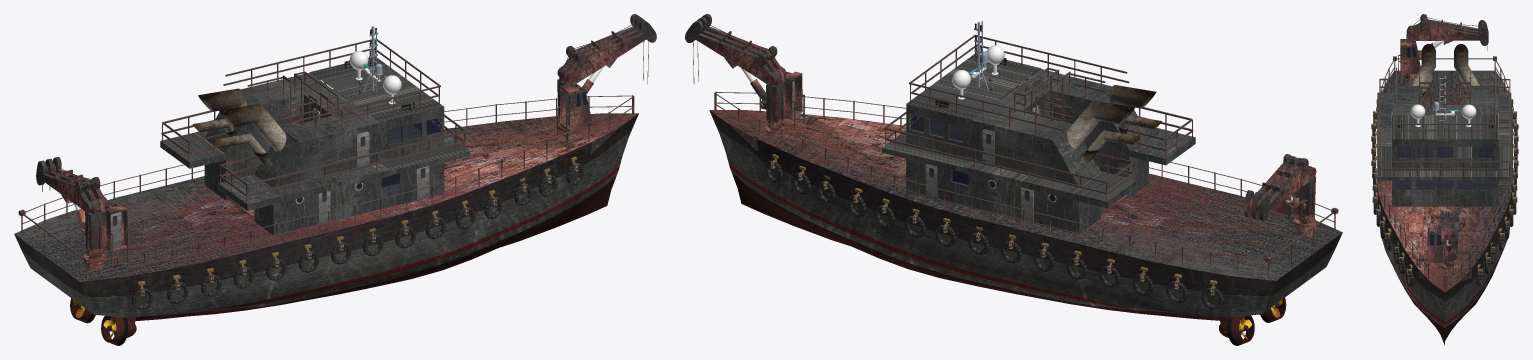
Rendered from boat.glb.
The picture shows the model from 3 angles, left to right: view 1: azimuth 30°, elevation 25°; view 2: azimuth 150°, elevation 25°; view 3: azimuth 270°, elevation 25°; orthographic projection. The views are drawn at different scales.
Visible parts, largest first — view 1: Object_10, Object_25, Object_29, Object_11, Object_22, Object_30, Object_23, Object_24, Object_28, Object_21, Object_27, Object_31 (+3 smaller); view 2: Object_25, Object_10, Object_29, Object_11, Object_30, Object_23, Object_22, Object_24, Object_27, Object_21, Object_28, Object_31 (+3 smaller); view 3: Object_29, Object_25, Object_10, Object_32, Object_24, Object_30, Object_11, Object_22, Object_27, Object_28, Object_21, Object_23 (+7 smaller).
Boxes of the visible parts, x1,y1,x2,y2 form: Object_10: [14, 113, 638, 320]; Object_25: [14, 23, 648, 281]; Object_29: [160, 56, 469, 234]; Object_11: [192, 88, 286, 165]; Object_22: [21, 44, 634, 279]; Object_30: [131, 163, 583, 309]; Object_23: [556, 14, 656, 132]; Object_24: [36, 157, 108, 270]; Object_28: [54, 169, 127, 262]; Object_21: [110, 93, 569, 247]; Object_27: [557, 31, 622, 136]; Object_31: [201, 251, 319, 296]; Object_25: [693, 24, 1342, 280]; Object_10: [709, 110, 1342, 320]; Object_29: [882, 52, 1195, 234]; Object_11: [1067, 85, 1161, 162]; Object_30: [765, 160, 1223, 309]; Object_23: [685, 14, 786, 134]; Object_22: [714, 37, 1335, 278]; Object_24: [1244, 155, 1316, 236]; Object_27: [719, 31, 804, 124]; Object_21: [792, 80, 1039, 222]; Object_28: [1262, 154, 1315, 216]; Object_31: [1033, 249, 1153, 295]; Object_29: [1377, 85, 1511, 206]; Object_25: [1377, 16, 1512, 292]; Object_10: [1377, 184, 1512, 345]; Object_32: [1396, 146, 1493, 189]; Object_24: [1404, 16, 1488, 82]; Object_30: [1373, 101, 1516, 286]; Object_11: [1410, 44, 1479, 96]; Object_22: [1379, 61, 1510, 290]; Object_27: [1427, 211, 1458, 262]; Object_28: [1398, 14, 1461, 75]; Object_21: [1391, 112, 1498, 199]; Object_23: [1440, 211, 1459, 269].
Size of the model in its own units: 9.33 by 3.76 by 2.55.
Materials: 25 (24 with a texture image).
